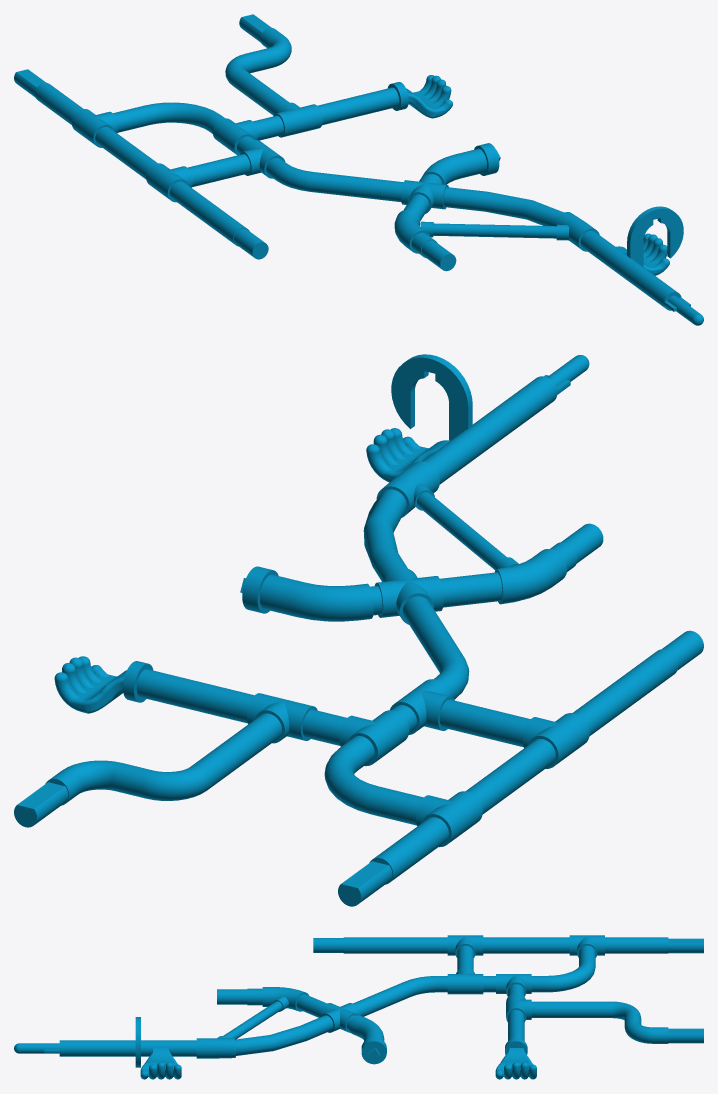
File: PIPES.fbx
The picture shows the model from 3 angles, top to bottom: view 1: azimuth 30°, elevation 25°; view 2: azimuth 150°, elevation 25°; view 3: azimuth 270°, elevation 25°; orthographic projection. The views are drawn at different scales.
Parts seen in each view (by area): view 1: PIPES; view 2: PIPES; view 3: PIPES.
Boxes of the visible parts, x1,y1,x2,y2 form: PIPES: (14, 14, 703, 325); PIPES: (14, 354, 703, 906); PIPES: (14, 935, 703, 1079).
Size of the model in its own units: 9.63 by 2 by 21.59.
